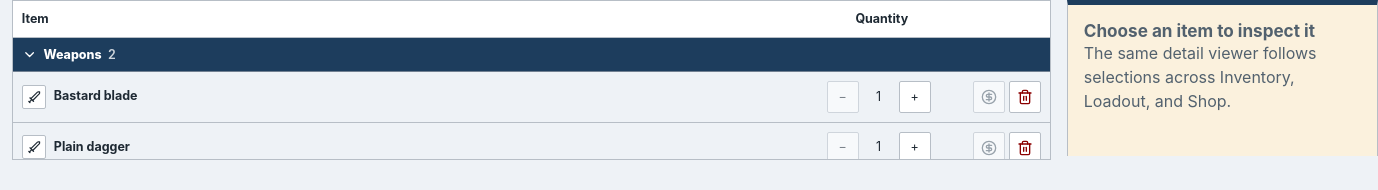
Equipment item right-click actions (D101) › offers Wield two-handed for a versatile weapon only
The width and height of the screenshot is (1378, 190).
Right-click the row "Plain dagger − 1 +".
right_click(531, 148)  # box [13,122,1050,173]
Right-click the row "Bastard blade − 1 +".
right_click(531, 97)  # box [13,72,1050,122]
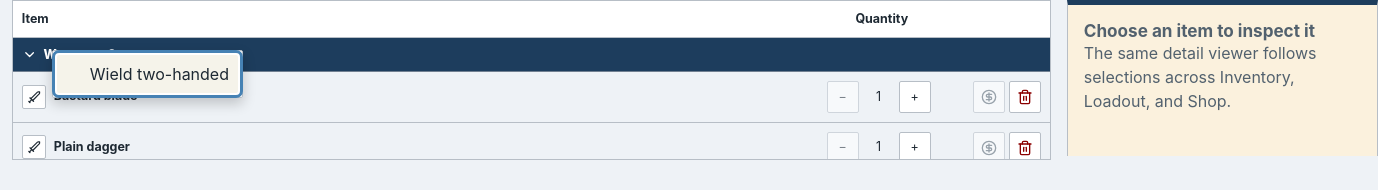
Expected: the menu item "Wield two-handed" is shown
Click the menu item "Wield two-handed".
click(147, 74)  # box [57,55,238,93]
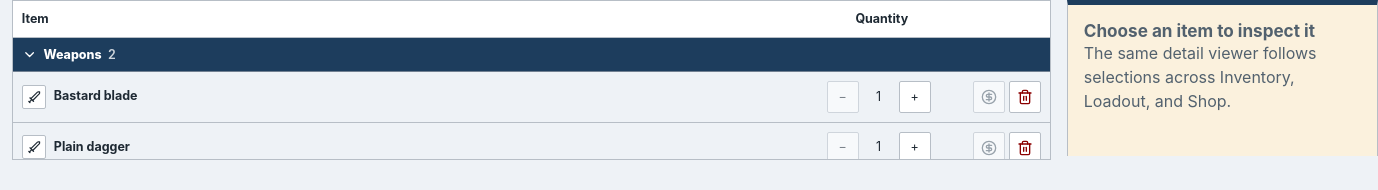
Expected: the menu is gone
